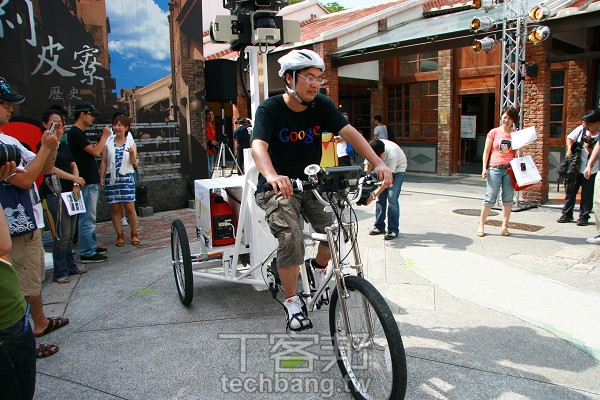people: (265, 49, 345, 326), (1, 81, 67, 355), (68, 104, 106, 261), (480, 107, 522, 238), (105, 114, 143, 242), (39, 111, 67, 244), (569, 109, 600, 224), (369, 137, 401, 239), (201, 106, 219, 171), (368, 111, 388, 139)
